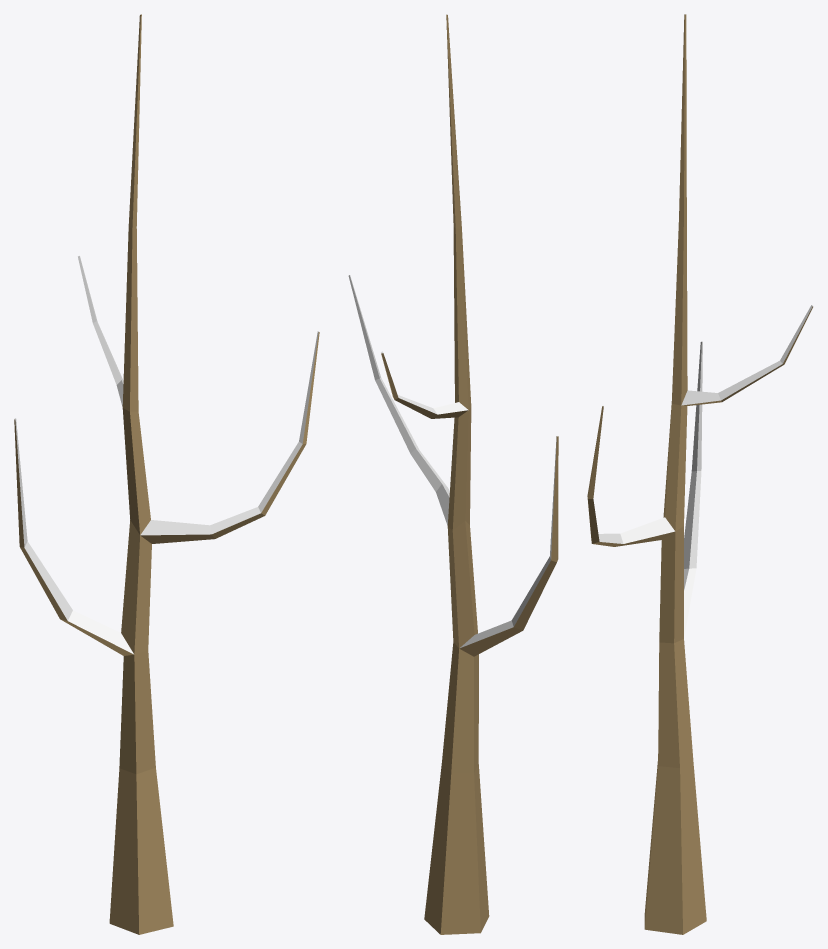
Rendered from Random_Tree_NoLeaves_m_Snow_BT_09.fbx.
The picture shows the model from 3 angles, left to right: view 1: azimuth 30°, elevation 25°; view 2: azimuth 150°, elevation 25°; view 3: azimuth 270°, elevation 25°; orthographic projection.
Parts seen in each view (by area): view 1: Random_Tree_NoLeaves_m_Snow_BT_09; view 2: Random_Tree_NoLeaves_m_Snow_BT_09; view 3: Random_Tree_NoLeaves_m_Snow_BT_09.
Part boxes in pixels (x1,y1,x2,y2): Random_Tree_NoLeaves_m_Snow_BT_09: (14,14,319,934); Random_Tree_NoLeaves_m_Snow_BT_09: (348,14,558,934); Random_Tree_NoLeaves_m_Snow_BT_09: (587,14,813,934).
Size of the model in its own units: 263 by 885 by 200.
